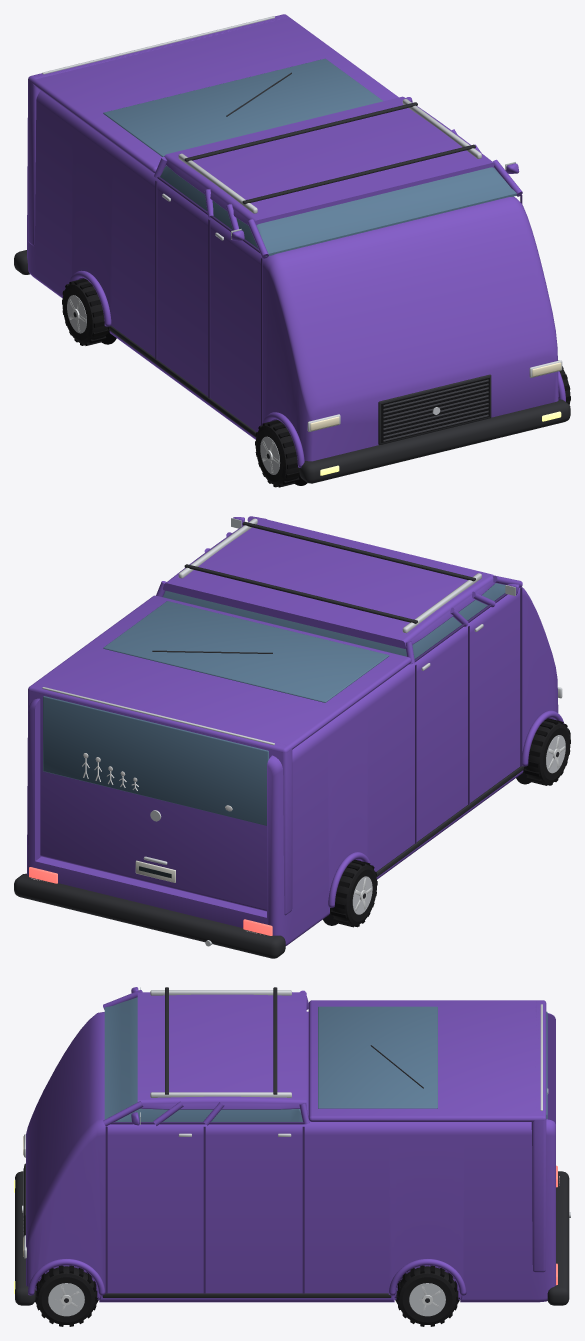
File: reunion2.fbx
3 renders of one model, top to bottom at view 1: azimuth 30°, elevation 25°; view 2: azimuth 150°, elevation 25°; view 3: azimuth 270°, elevation 25°, orthographic. The views are drawn at different scales.
Parts seen in each view (by area): view 1: Body, Lid, Wheel_1, Wheel_3, LidFlap; view 2: Body, LidFlap, Lid, Wheel_3, Wheel_1; view 3: Body, Lid, Wheel_2, Wheel_0, LidFlap.
Part boxes in pixels (x1,y1,x2,y2): Body: (14, 91, 570, 485); Lid: (28, 14, 398, 173); Wheel_1: (62, 278, 108, 345); Wheel_3: (255, 420, 299, 487); LidFlap: (28, 14, 287, 246); Body: (14, 516, 570, 958); LidFlap: (28, 685, 292, 915); Lid: (28, 595, 411, 752); Wheel_3: (524, 718, 570, 785); Wheel_1: (330, 859, 377, 927); Body: (14, 987, 570, 1305); Lid: (308, 1000, 546, 1121); Wheel_2: (35, 1265, 97, 1326); Wheel_0: (396, 1265, 458, 1326); LidFlap: (531, 1001, 548, 1272).
Bounding box in the file's own units: 7.5 × 5.98 × 13.36.
